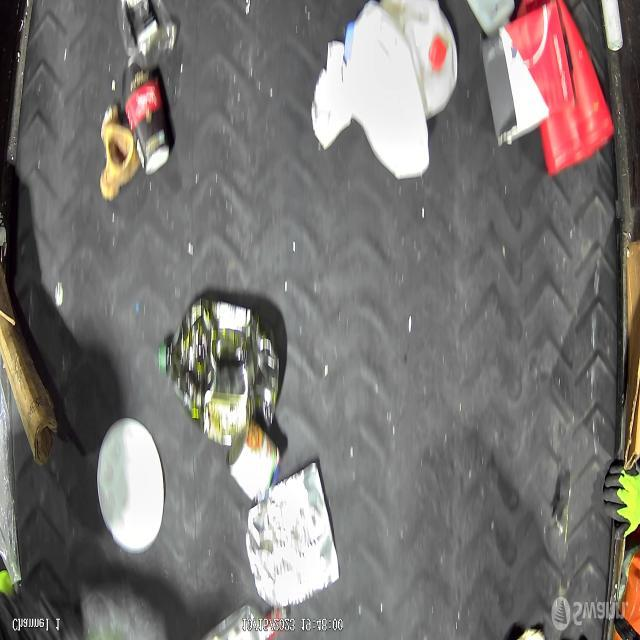can: (227, 422, 281, 503)
milk_jug: (344, 0, 429, 182), (380, 0, 460, 122)
non_white_jug: (158, 295, 282, 447)
